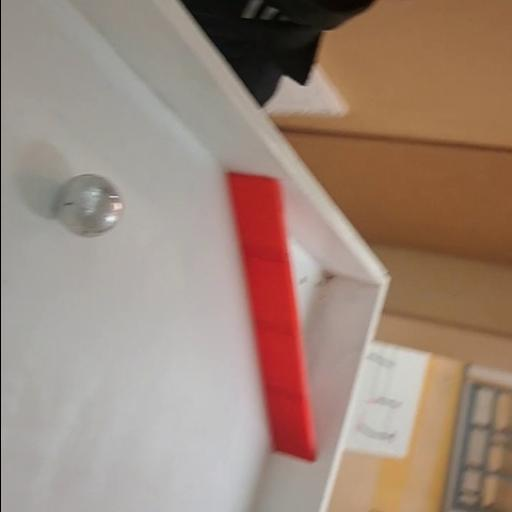alive: (52, 172, 124, 240)
